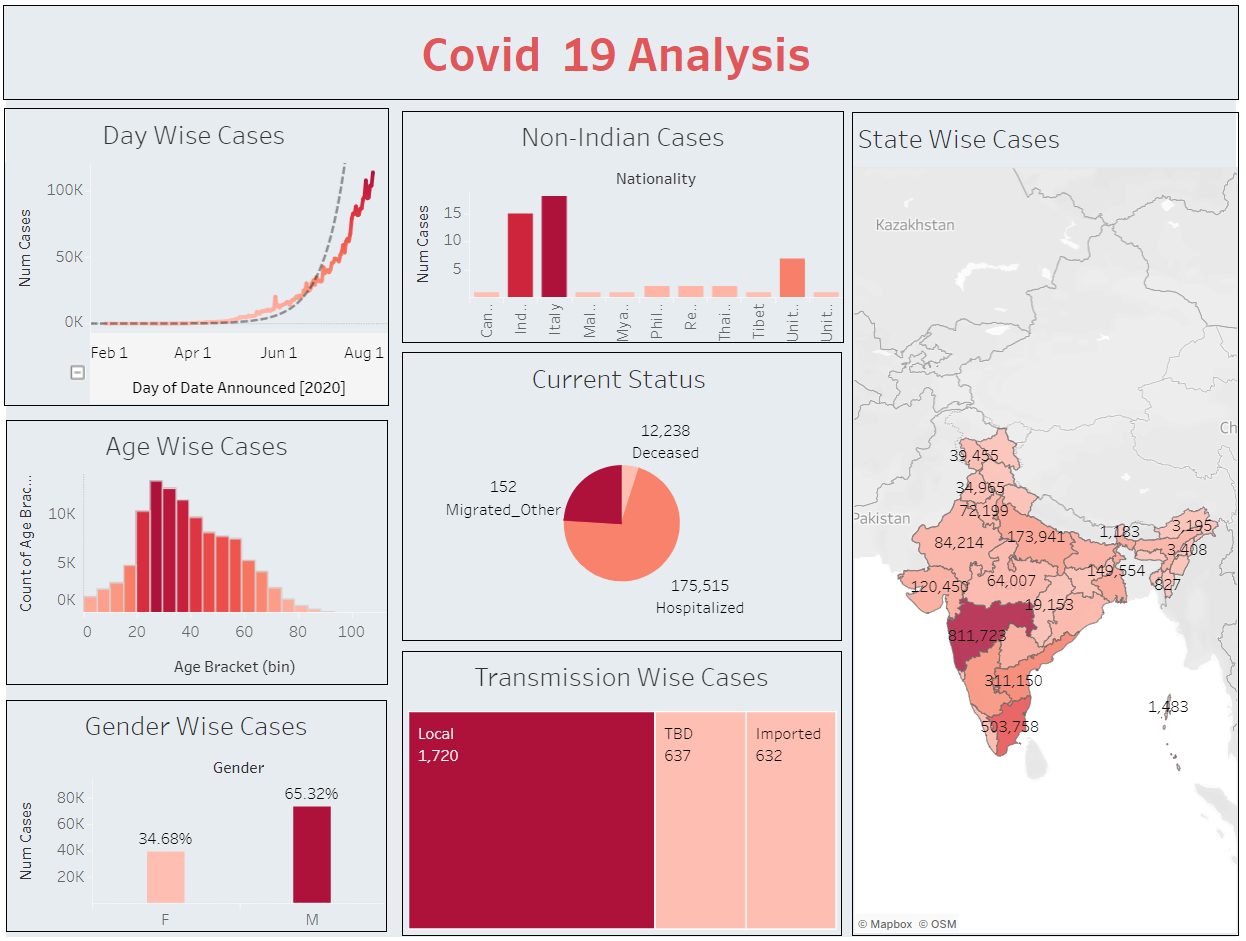

The dashboard page shown, as its layout file describes it:
{"tool":"tableau","page":{"name":"Dashboard 1","canvas":[1000,1000],"units":"permille","ordinal":0},"visuals":[{"type":"text","box":[6.5,7.9,988.4,100]},{"type":"worksheet","title":"Day Wise Cases ","mark":"Automatic","rows":["Num Cases"],"cols":["Date Announced"],"box":[7.1,117.1,308.4,313.2]},{"type":"worksheet","title":"Non-Indian Cases","mark":"Automatic","rows":["Num Cases"],"cols":["Nationality"],"box":[324.5,119.7,354.2,244.7]},{"type":"worksheet","title":"State Wise Cases ","mark":"Automatic","box":[685.2,121,310.3,867.1]},{"type":"worksheet","title":"Current Status ","mark":"Pie","box":[324.5,373.7,352.9,303.9]},{"type":"worksheet","title":"Age Wise Cases","mark":"Automatic","rows":["Age Bracket"],"cols":["Age Bracket (bin)"],"box":[7.7,444.7,305.8,278.9]},{"type":"worksheet","title":"Transmission Wise Cases","mark":"Automatic","box":[324.5,688.2,352.3,300]},{"type":"worksheet","title":"Gender Wise Cases","mark":"Automatic","rows":["Num Cases"],"cols":["Gender"],"box":[7.7,739.5,305.2,244.7]}]}

Visuals, with their boxes on the dashboard's canvas, which has no fixed pixel size, in thousandths of its width and height (x1, y1, x2, y2). These are canvas units, not pixel positions in the 1246x941 screenshot, which may show the page scaled, cropped or inside an application window:
text: region(6, 8, 995, 108)
"Day Wise Cases " worksheet: region(7, 117, 316, 430)
"Non-Indian Cases" worksheet: region(324, 120, 679, 364)
"State Wise Cases " worksheet: region(685, 121, 996, 988)
"Current Status " worksheet (Pie marks): region(324, 374, 677, 678)
"Age Wise Cases" worksheet: region(8, 445, 314, 724)
"Transmission Wise Cases" worksheet: region(324, 688, 677, 988)
"Gender Wise Cases" worksheet: region(8, 740, 313, 984)
